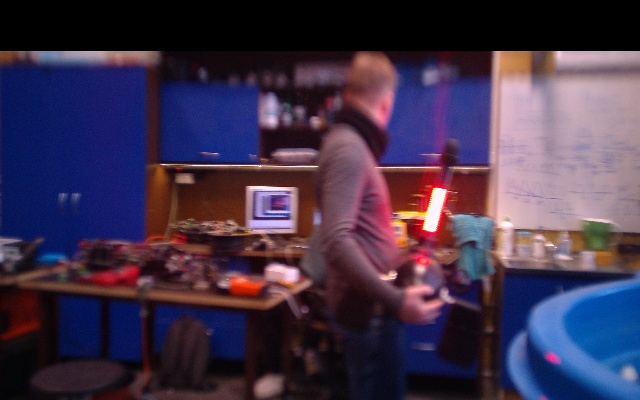red: (422, 186, 450, 234)
